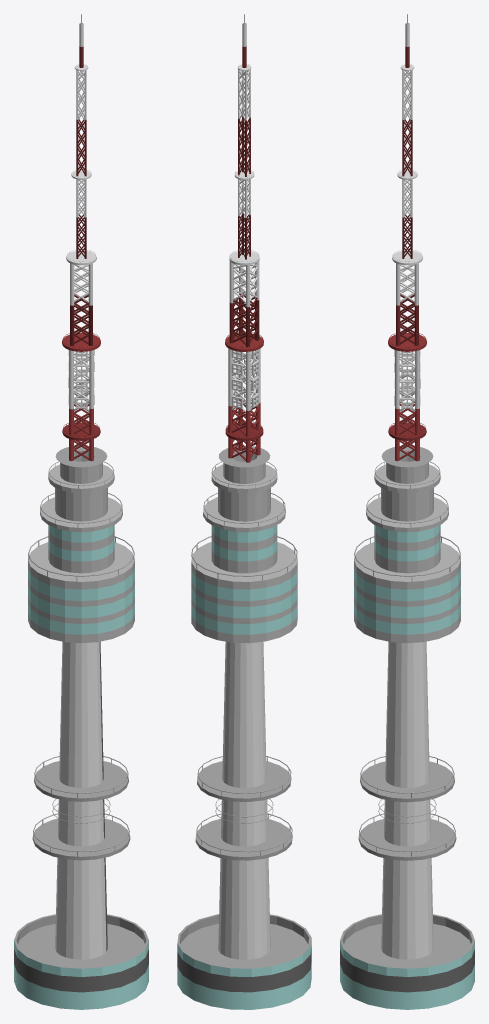
File: tower.fbx
3 views of the same model, side by side, from view 1: azimuth 90°, elevation 25°; view 2: azimuth 150°, elevation 25°; view 3: azimuth 270°, elevation 25° (orthographic).
Visible parts, largest first — view 1: pCylinder1, pTorus6, polySurface50, pCylinder113, pCylinder111, pCylinder6, pCylinder3, pCylinder70, pCube15, pCylinder8, polySurface123, polySurface141 (+2 smaller); view 2: pCylinder1, pTorus6, polySurface50, pCylinder113, pCylinder111, pCylinder6, pCube17, pCylinder5, pCylinder70, polySurface122, pCylinder8, pCube15 (+2 smaller); view 3: pCylinder1, pTorus6, polySurface50, pCylinder113, pCylinder111, pCylinder5, pCylinder4, pCylinder70, pCylinder8, polySurface122, polySurface124, pCylinder110 (+1 smaller).
Part boxes in pixels (left/top/right/bottom): pCylinder1: left=14, top=445, right=148, bottom=1009; pTorus6: left=32, top=813, right=130, bottom=860; polySurface50: left=34, top=761, right=128, bottom=801; pCylinder113: left=76, top=70, right=86, bottom=176; pCylinder111: left=76, top=179, right=86, bottom=258; pCylinder6: left=69, top=350, right=73, bottom=461; pCylinder3: left=89, top=350, right=93, bottom=461; pCylinder70: left=62, top=333, right=100, bottom=351; pCube15: left=76, top=351, right=87, bottom=408; pCylinder8: left=62, top=422, right=100, bottom=440; polySurface123: left=70, top=263, right=74, bottom=345; polySurface141: left=88, top=263, right=92, bottom=345; pCylinder1: left=177, top=445, right=311, bottom=1009; pTorus6: left=195, top=813, right=292, bottom=860; polySurface50: left=197, top=761, right=291, bottom=801; pCylinder113: left=238, top=69, right=250, bottom=176; pCylinder111: left=238, top=179, right=250, bottom=259; pCylinder6: left=246, top=351, right=250, bottom=462; pCube17: left=231, top=350, right=242, bottom=408; pCylinder5: left=228, top=348, right=232, bottom=458; pCylinder70: left=225, top=333, right=263, bottom=351; polySurface122: left=229, top=260, right=233, bottom=343; pCylinder8: left=225, top=422, right=263, bottom=440; pCube15: left=251, top=349, right=259, bottom=407; pCylinder1: left=340, top=446, right=474, bottom=1009; pTorus6: left=358, top=813, right=456, bottom=860; polySurface50: left=360, top=761, right=454, bottom=802; pCylinder113: left=402, top=70, right=412, bottom=176; pCylinder111: left=402, top=179, right=412, bottom=258; pCylinder5: left=415, top=350, right=419, bottom=461; pCylinder4: left=395, top=350, right=399, bottom=461; pCylinder70: left=388, top=333, right=426, bottom=351; pCylinder8: left=388, top=422, right=426, bottom=440; polySurface122: left=414, top=263, right=418, bottom=345; polySurface124: left=396, top=263, right=400, bottom=345; pCylinder110: left=392, top=250, right=422, bottom=265.
Size of the model in its own units: 10.68 by 84.47 by 10.68.
